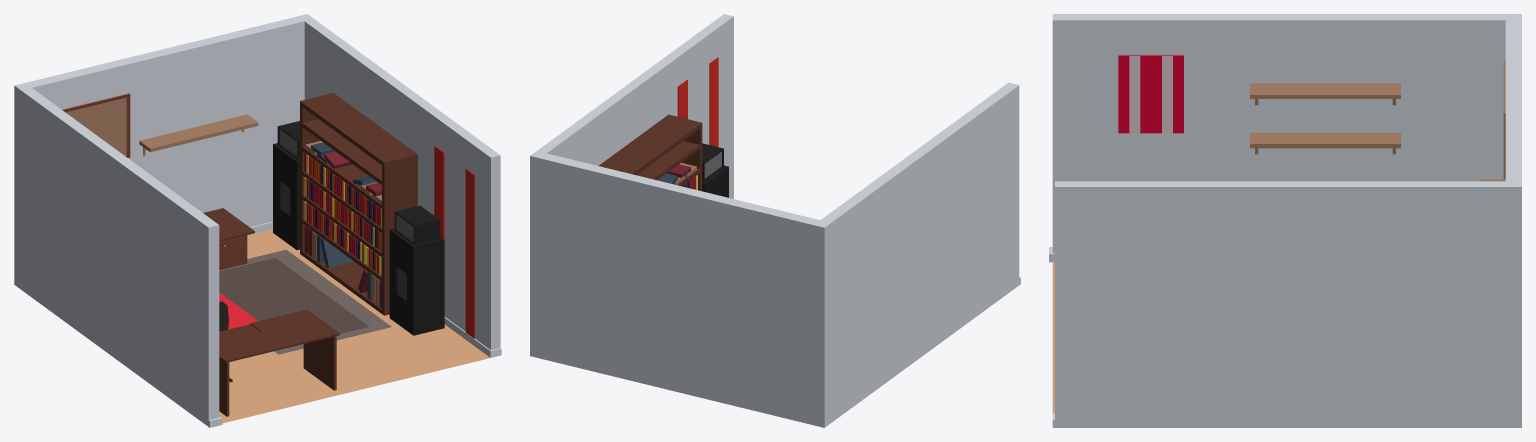
File: bedroom_low_poly_free.glb
The picture shows the model from 3 angles, left to right: view 1: azimuth 30°, elevation 25°; view 2: azimuth 150°, elevation 25°; view 3: azimuth 270°, elevation 25°; orthographic projection. The views are drawn at different scales.
Parts seen in each view (by area): view 1: Cube, Plane.002, Plane.003, Plane.005, Cube.005, Plane.004, Cube.004, Cube.002, Cube.003, Plane.001, Plane; view 2: Cube, Plane.002, Cube.005, Plane.005; view 3: Cube, Cube.001, Cube.003.
Part boxes in pixels (x1,y1,x2,y2): Cube: [14, 14, 501, 427]; Plane.002: [300, 93, 417, 315]; Plane.003: [219, 249, 391, 354]; Plane.005: [304, 141, 381, 307]; Cube.005: [389, 205, 444, 335]; Plane.004: [219, 309, 339, 416]; Cube.004: [273, 121, 299, 250]; Cube.002: [62, 93, 130, 157]; Cube.003: [139, 114, 258, 156]; Plane.001: [203, 208, 254, 270]; Plane: [219, 292, 258, 329]; Cube: [530, 14, 1020, 427]; Plane.002: [598, 114, 702, 191]; Cube.005: [702, 143, 728, 197]; Plane.005: [657, 162, 697, 190]; Cube: [1049, 14, 1521, 427]; Cube.001: [1118, 55, 1183, 133]; Cube.003: [1250, 83, 1505, 181].
Size of the model in its own units: 1227 by 806 by 1418.
1 material, 1 textured.
